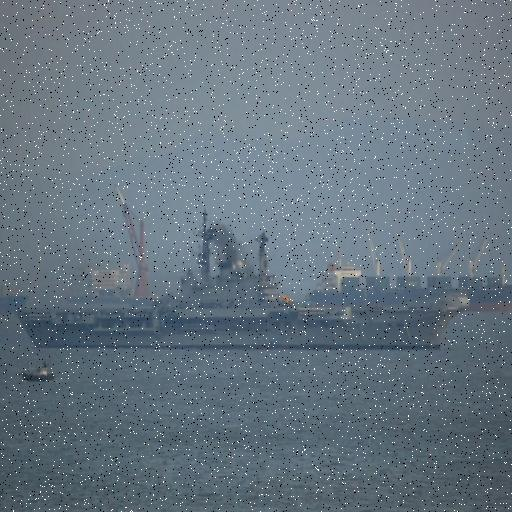Portanaves: (16, 202, 477, 361)
